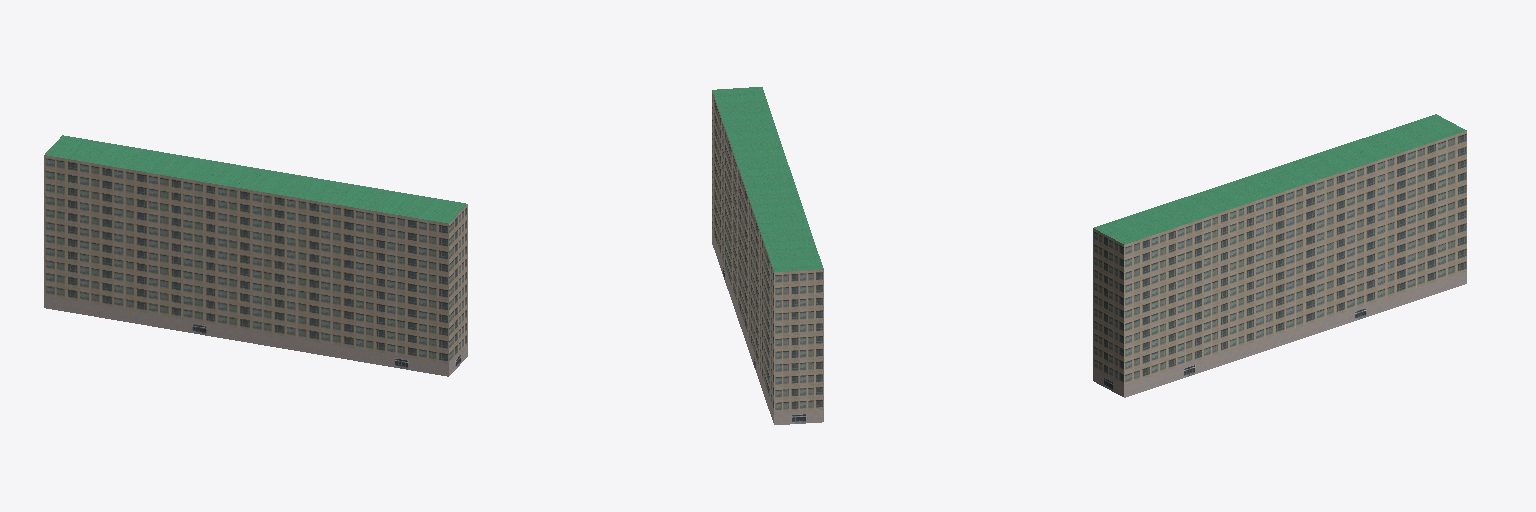
3 renders of one model, left to right at view 1: azimuth 30°, elevation 25°; view 2: azimuth 150°, elevation 25°; view 3: azimuth 270°, elevation 25°, orthographic.
Parts seen in each view (by area): view 1: BuildingMaster_[number redacted]_0, BuildingMaster_[number redacted]_1; view 2: BuildingMaster_[number redacted]_0, BuildingMaster_[number redacted]_1; view 3: BuildingMaster_[number redacted]_0, BuildingMaster_[number redacted]_1.
Boxes of the visible parts, x1=… form: BuildingMaster_[number redacted]_0: x1=44, y1=155, x2=467, y2=376; BuildingMaster_[number redacted]_1: x1=45, y1=135, x2=466, y2=223; BuildingMaster_[number redacted]_0: x1=712, y1=91, x2=823, y2=424; BuildingMaster_[number redacted]_1: x1=712, y1=87, x2=823, y2=271; BuildingMaster_[number redacted]_0: x1=1093, y1=131, x2=1466, y2=397; BuildingMaster_[number redacted]_1: x1=1094, y1=114, x2=1466, y2=244.
Size of the model in its own units: 76.82 by 42 by 93.03.
2 materials, 2 textured.